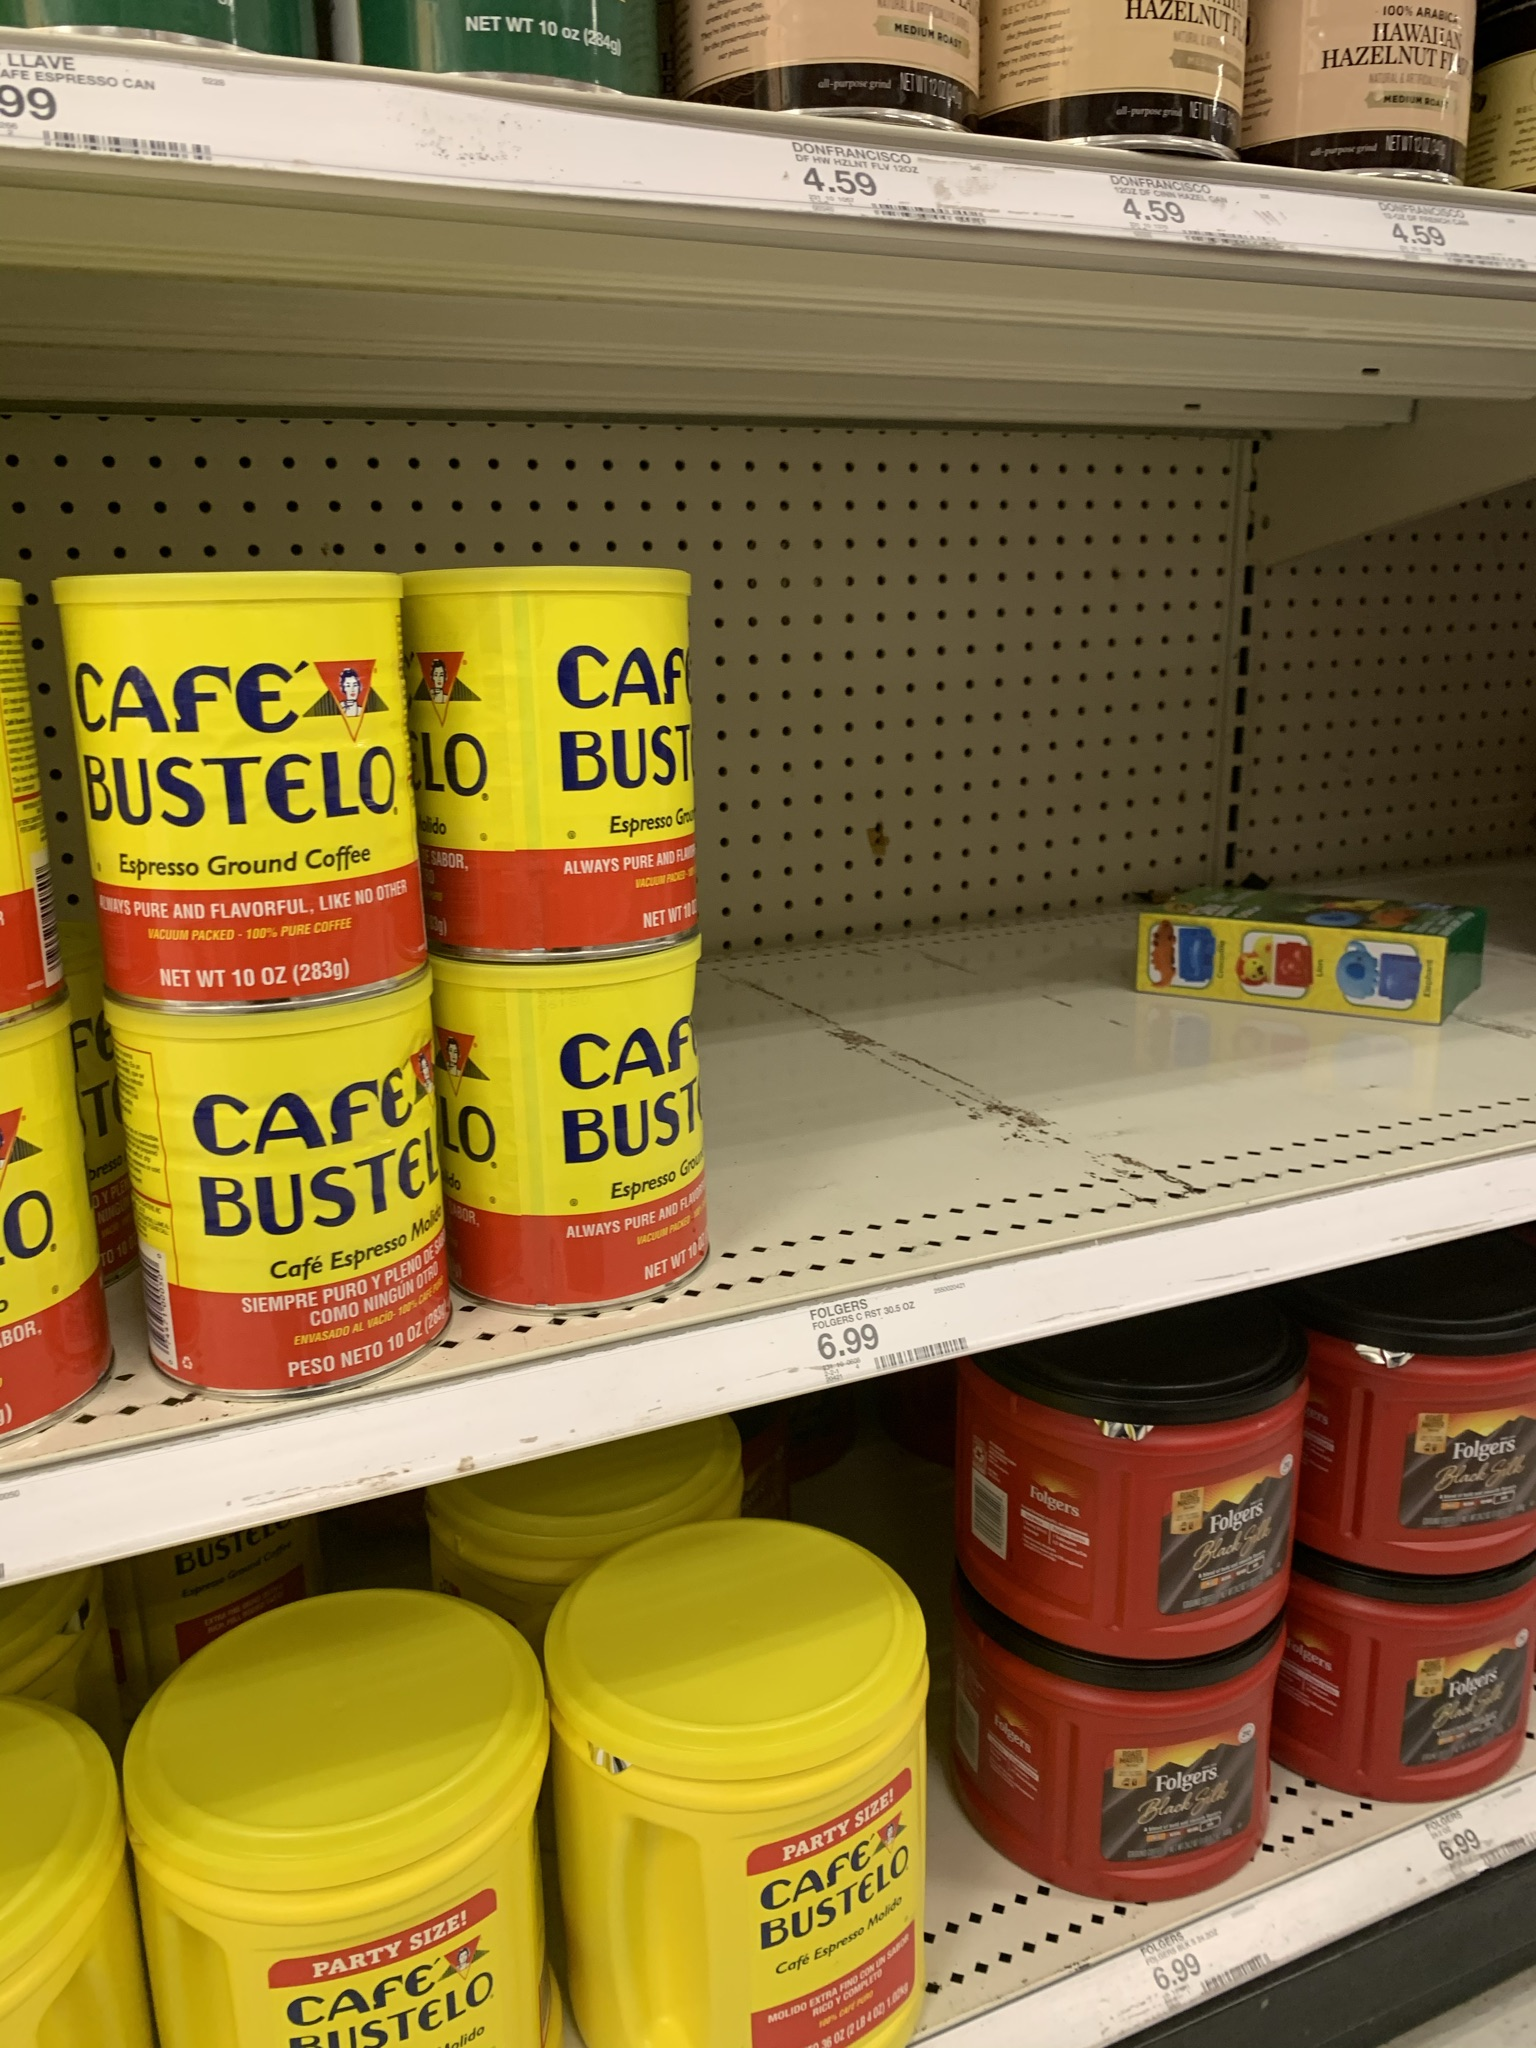can: (50, 571, 418, 1013), (106, 1009, 442, 1392), (408, 564, 699, 955), (436, 963, 707, 1309), (1005, 1369, 1299, 1658)
